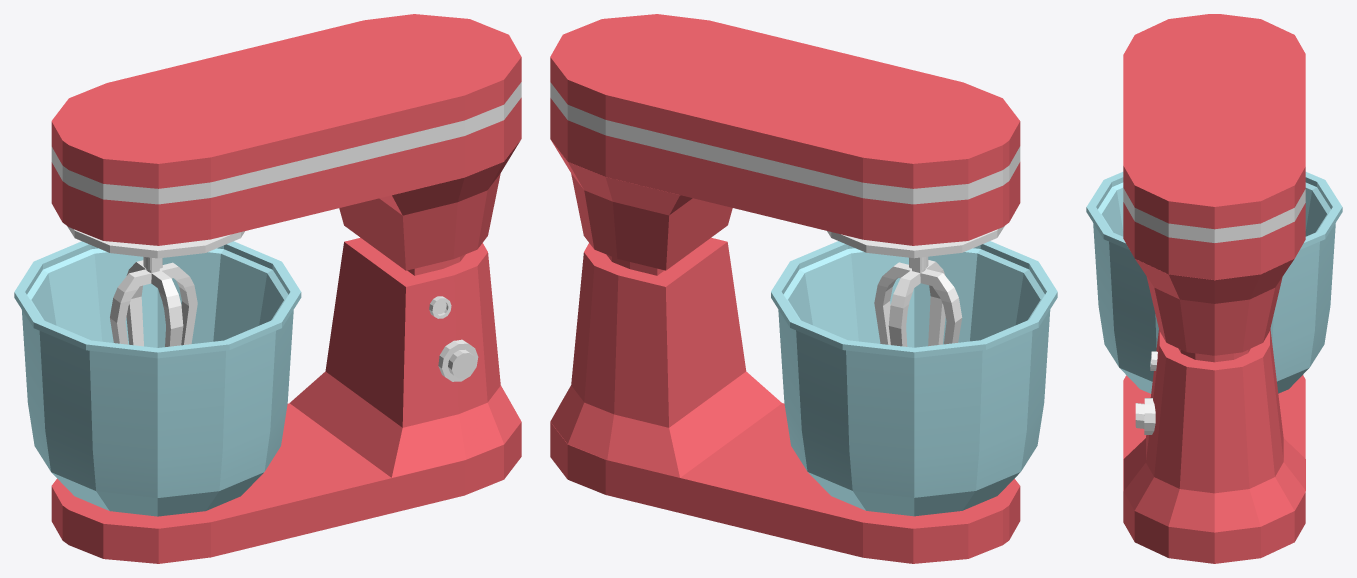
The model's file is mixer.fbx.
3 renders of one model, left to right at view 1: azimuth 30°, elevation 25°; view 2: azimuth 150°, elevation 25°; view 3: azimuth 270°, elevation 25°, orthographic. The views are drawn at different scales.
Visible parts, largest first — view 1: Cube.031, Cylinder.006, BOWL, Cube.033; view 2: Cube.031, Cylinder.006, BOWL, Cube.033; view 3: Cube.031, Cylinder.006, BOWL.
Boxes of the visible parts, box(x1,y1,x2,y2) form: Cube.031: box(51, 14, 521, 272); Cylinder.006: box(51, 237, 521, 563); BOWL: box(14, 241, 301, 516); Cube.033: box(110, 260, 197, 346); Cube.031: box(550, 14, 1020, 272); Cylinder.006: box(550, 237, 1020, 563); BOWL: box(771, 241, 1057, 516); Cube.033: box(874, 260, 962, 346); Cube.031: box(1123, 14, 1305, 355); Cylinder.006: box(1123, 329, 1305, 563); BOWL: box(1086, 172, 1342, 393).
Size of the model in its own units: 135 by 109 by 70.56.
